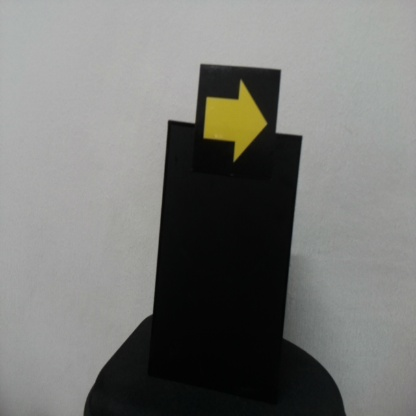id_3: (199, 66, 279, 178)
